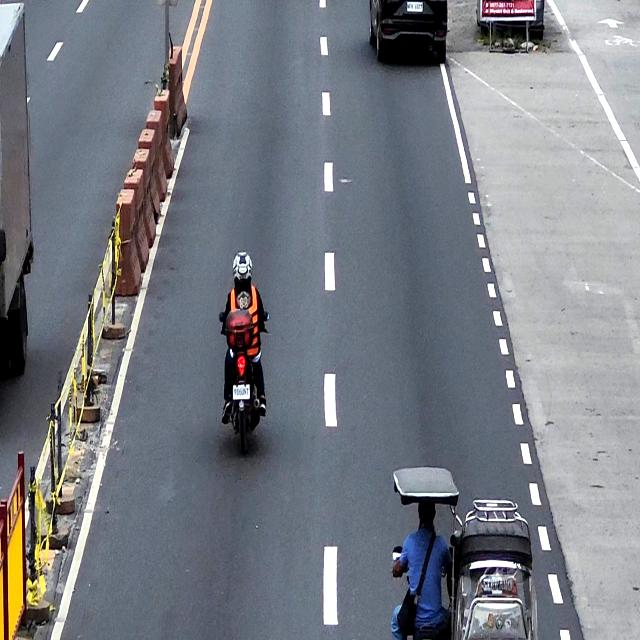Car: (368, 0, 448, 63)
License-Plate: (233, 384, 249, 399), (407, 1, 422, 12)
Motorcycle: (220, 308, 270, 456)
Tricycle: (392, 465, 539, 640)
